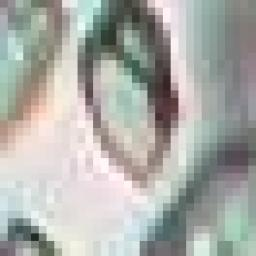crystals: (72, 0, 176, 192)
